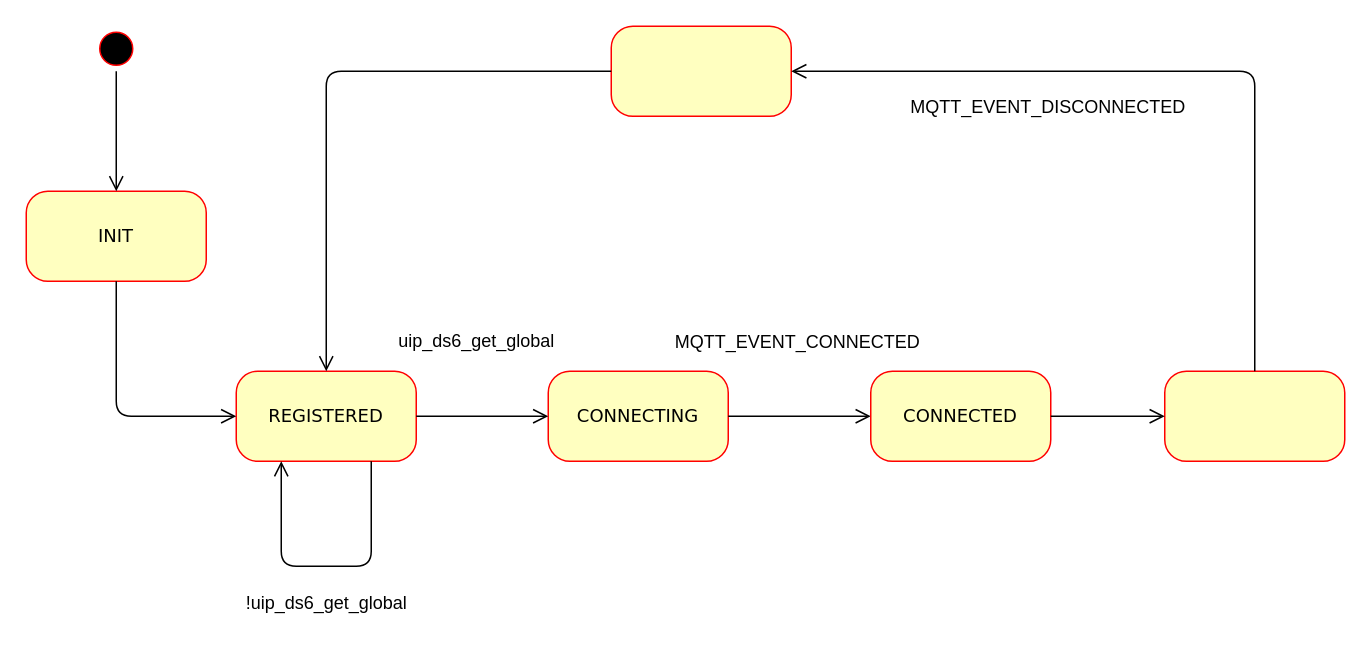
Some shapes in this 1371 by 645 pixel diagram are drawn without their labels. The shapes that lost their labels are listed below. From the top down, each one's centre as x and y in pixels, then its label:
the point at 700,70: DISCONNECTED
the point at 1254,415: READY
